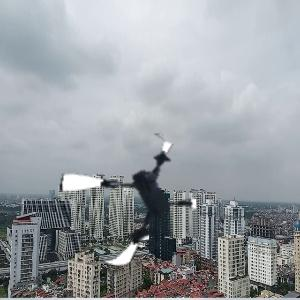drone: (60, 132, 198, 270)
